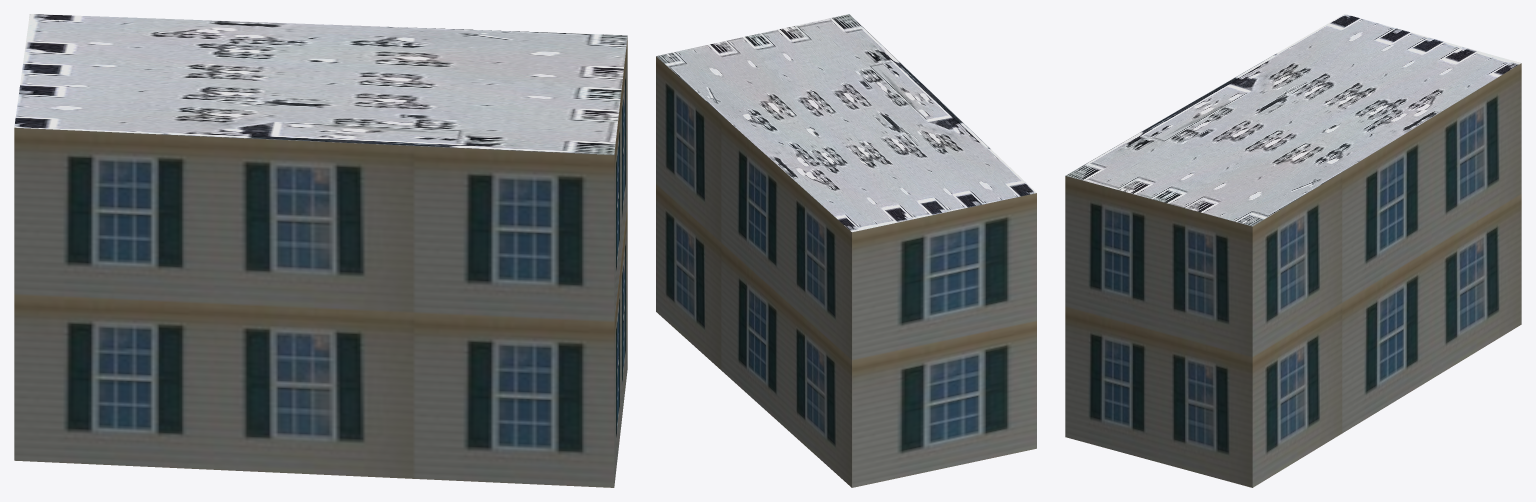
The model's file is ResTex__133.fbx.
The picture shows the model from 3 angles, left to right: view 1: azimuth 30°, elevation 25°; view 2: azimuth 150°, elevation 25°; view 3: azimuth 270°, elevation 25°; orthographic projection. The views are drawn at different scales.
Visible parts, largest first — view 1: CityEngineMaterial_7_m, CityEngineMaterial_m; view 2: CityEngineMaterial_7_m, CityEngineMaterial_m; view 3: CityEngineMaterial_7_m, CityEngineMaterial_m.
Part boxes in pixels (x1,y1,x2,y2): CityEngineMaterial_7_m: (14, 37, 627, 487); CityEngineMaterial_m: (14, 14, 627, 154); CityEngineMaterial_7_m: (656, 56, 1036, 487); CityEngineMaterial_m: (656, 14, 1036, 232); CityEngineMaterial_7_m: (1065, 63, 1521, 487); CityEngineMaterial_m: (1065, 14, 1521, 226).
Size of the model in its own units: 10.46 by 6 by 9.49.
Materials: 2 (2 with a texture image).
